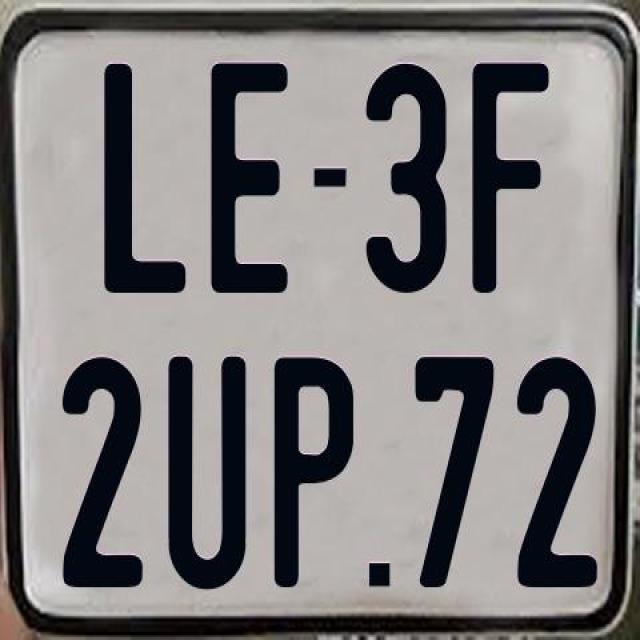2: (514, 355, 602, 587), (62, 357, 150, 587)
3: (366, 63, 454, 300)
7: (411, 354, 494, 594)
E: (210, 63, 294, 294)
F: (472, 59, 555, 299)
L: (100, 60, 184, 298)
P: (272, 355, 354, 595)
U: (168, 353, 249, 588)
